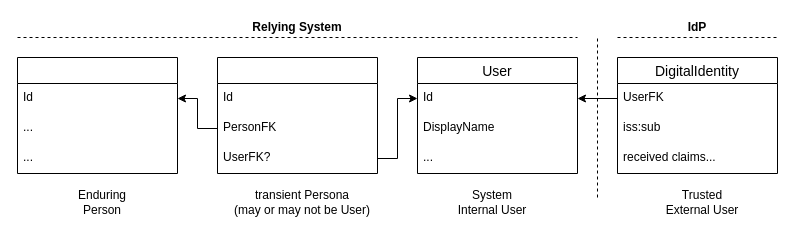
Some shapes in this 805 by 234 pixel diagram are drawn without their labels. Each missing label, with the box of its shape:
Person: (16, 56, 178, 174)
Persona: (216, 56, 378, 174)
